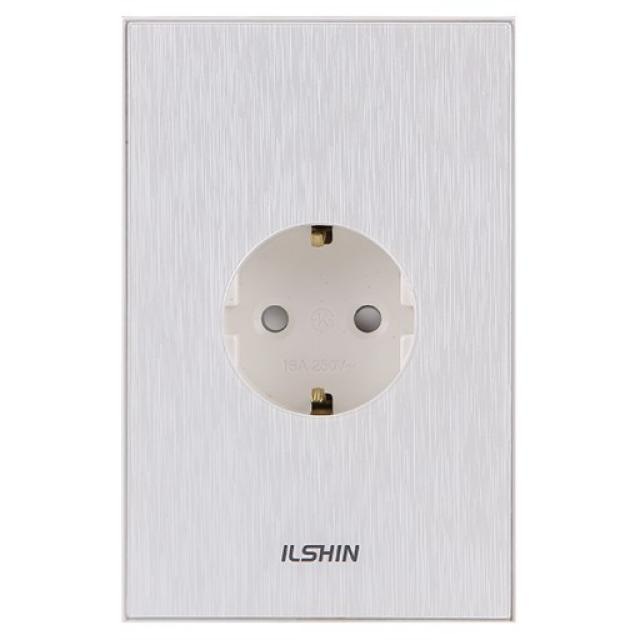typeb: (104, 10, 539, 640)
